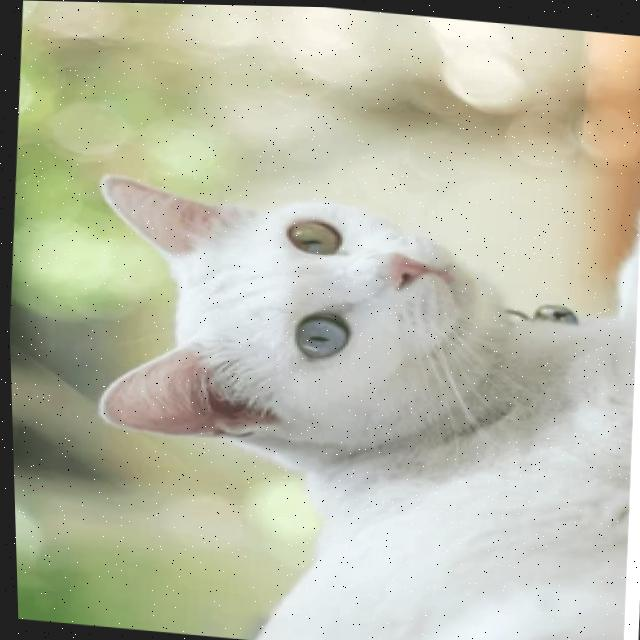Khao Manee: (58, 166, 640, 640)
